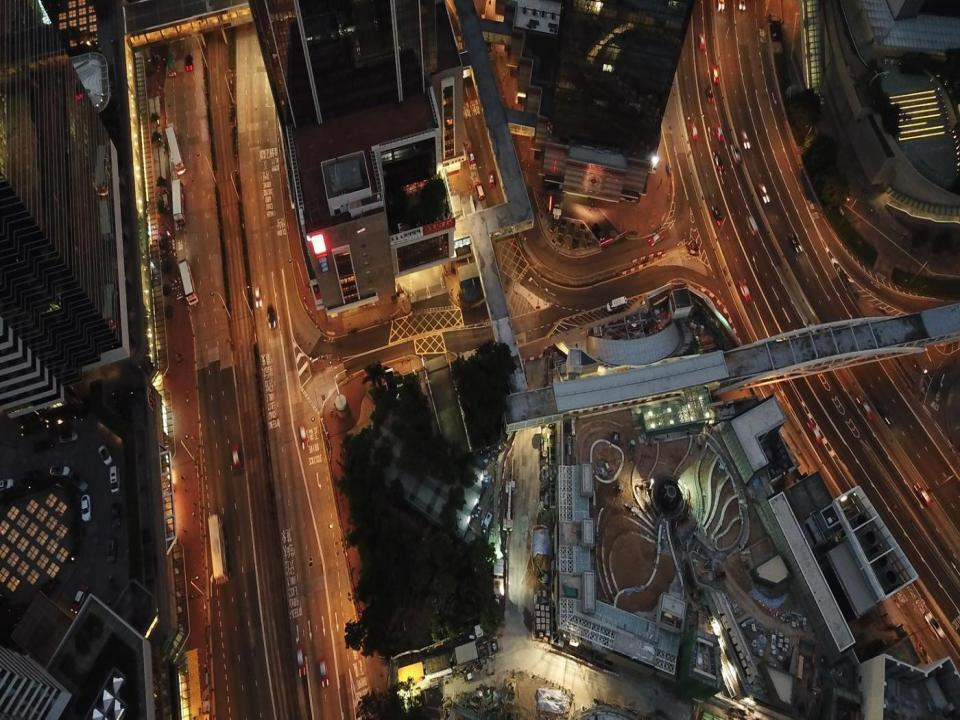bus: (207, 513, 228, 584), (164, 125, 186, 174), (178, 259, 199, 305), (172, 179, 185, 222)
car: (924, 612, 945, 641), (72, 585, 88, 614), (913, 483, 932, 507), (856, 395, 874, 419), (68, 470, 88, 491), (806, 421, 822, 445), (806, 320, 823, 342), (110, 502, 122, 531), (739, 278, 752, 302), (99, 445, 114, 465), (788, 233, 802, 253), (231, 444, 241, 471), (81, 494, 91, 521), (711, 204, 723, 226), (297, 648, 306, 677), (299, 424, 309, 450), (320, 660, 329, 687), (648, 232, 663, 248), (758, 183, 770, 203), (60, 430, 77, 444), (713, 151, 724, 171), (740, 128, 750, 149), (268, 305, 276, 328), (475, 181, 485, 199), (714, 121, 723, 140), (185, 52, 194, 70), (467, 147, 475, 167), (711, 65, 719, 83), (487, 170, 495, 187), (698, 33, 706, 50), (59, 465, 69, 478), (706, 86, 714, 102), (690, 121, 697, 139), (718, 0, 725, 13), (738, 0, 745, 11)
truck: (168, 54, 176, 76)
van: (607, 296, 627, 312), (109, 466, 120, 492), (106, 538, 116, 561), (746, 216, 758, 234), (254, 285, 262, 308)
